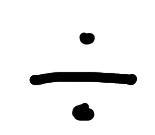div: (30, 32, 137, 121)
